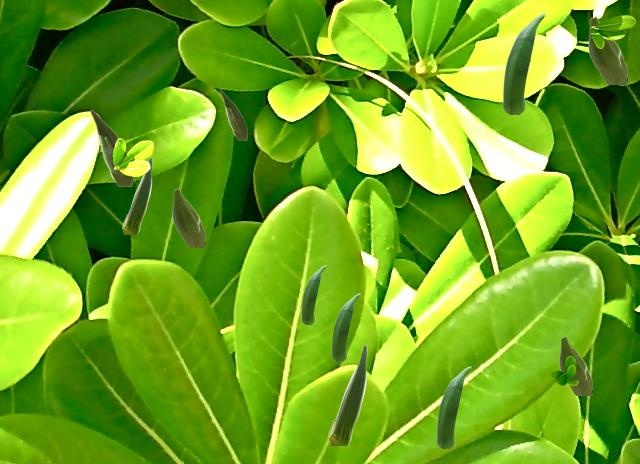okra: (502, 13, 544, 113), (328, 344, 366, 444), (90, 109, 132, 185), (436, 366, 470, 447), (588, 16, 626, 83), (122, 157, 151, 233), (331, 293, 359, 360), (172, 188, 204, 246), (559, 336, 591, 394), (301, 265, 325, 323), (220, 90, 246, 139)
